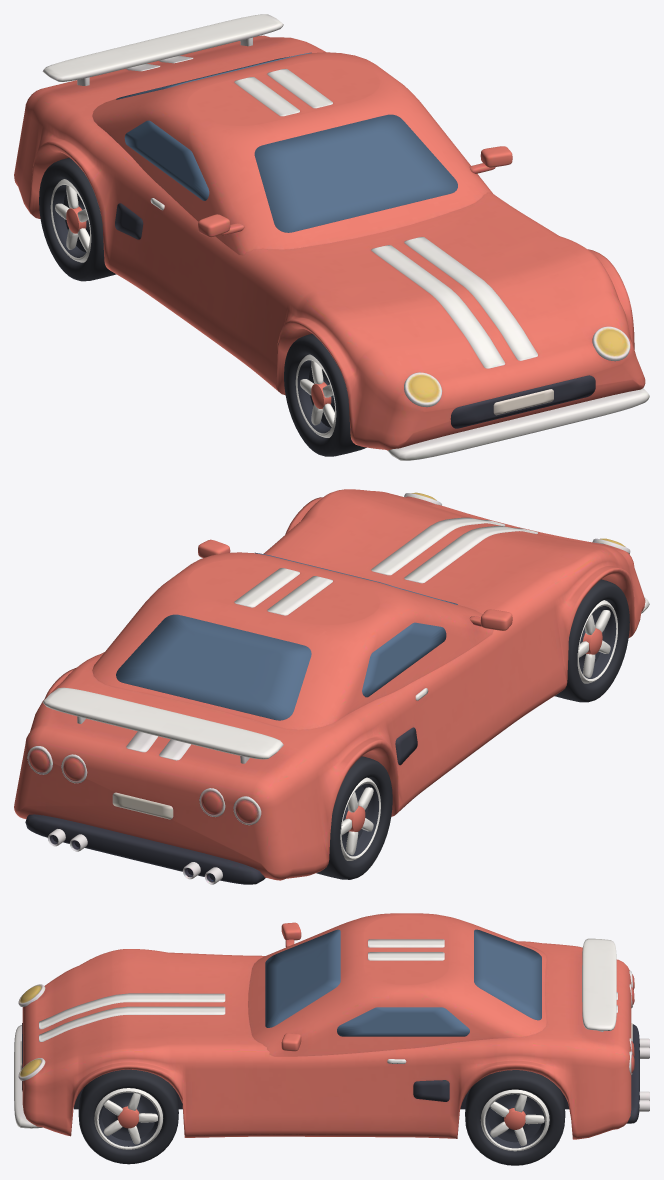
File: sports-car.glb
3 views of the same model, one above another, from view 1: azimuth 30°, elevation 25°; view 2: azimuth 150°, elevation 25°; view 3: azimuth 270°, elevation 25° (orthographic). The views are drawn at different scales.
Visible parts, largest first — view 1: sports-car_body, sports-car_windows, sports-car_wheel_fr, sports-car_wheel_rr; view 2: sports-car_body, sports-car_windows, sports-car_wheel_rr, sports-car_wheel_fr; view 3: sports-car_body, sports-car_windows, sports-car_wheel_rl, sports-car_wheel_fl.
Boxes of the visible parts, left/top/right/bottom form: sports-car_body: left=14, top=14, right=649, bottom=460; sports-car_windows: left=116, top=52, right=457, bottom=232; sports-car_wheel_fr: left=284, top=333, right=366, bottom=456; sports-car_wheel_rr: left=39, top=157, right=116, bottom=281; sports-car_body: left=14, top=489, right=649, bottom=884; sports-car_windows: left=116, top=552, right=457, bottom=720; sports-car_wheel_rr: left=316, top=756, right=392, bottom=879; sports-car_wheel_fr: left=554, top=579, right=629, bottom=702; sports-car_body: left=14, top=913, right=649, bottom=1139; sports-car_windows: left=265, top=929, right=541, bottom=1036; sports-car_wheel_rl: left=465, top=1070, right=565, bottom=1165; sports-car_wheel_fl: left=78, top=1069, right=178, bottom=1164.
Bounding box in the file's own units: 1.97 × 1.22 × 4.38.
Materials: 18 (1 with a texture image).
